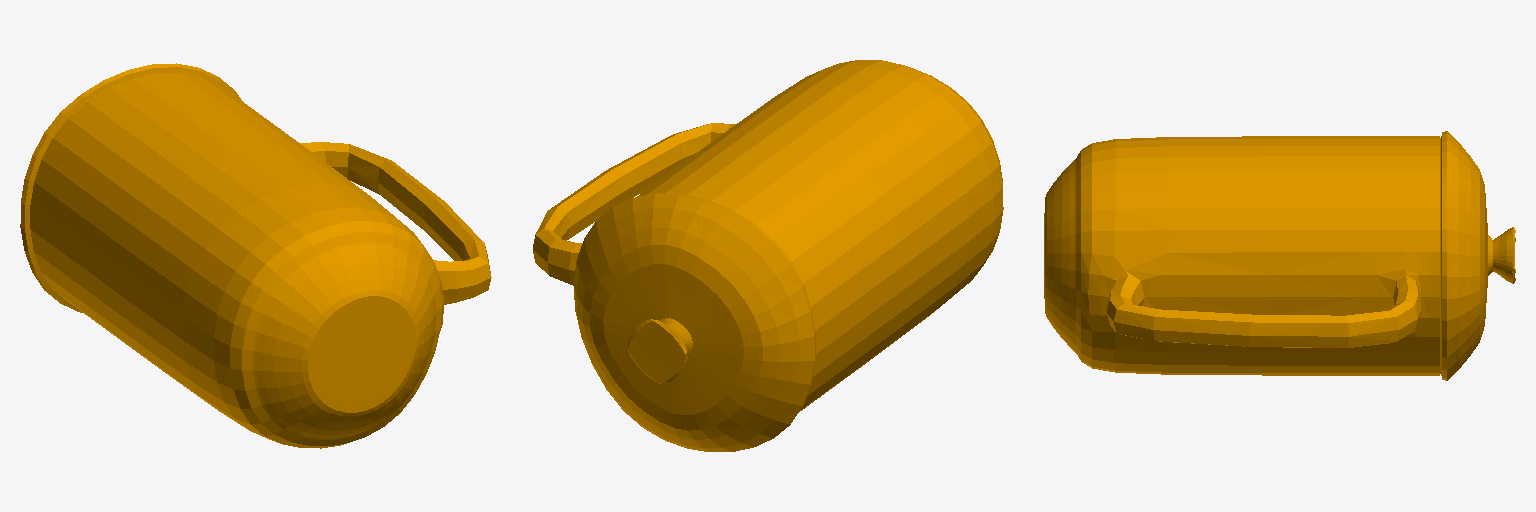
URDF robot description (168):
<?xml version="1.0" ?>
<robot name="168">
  <link name="body">
    <visual>
      <geometry>
        <mesh filename="../shapes/168.obj"/>
      </geometry>
    </visual>
    <collision>
      <geometry>
        <mesh filename="../shapes/168.obj"/>
      </geometry>
    </collision>
  </link>
</robot>

--- Facts derived from the render (not from the file) ---
Views: 3 orthographic renders of the robot side by side, from view 1: azimuth 30°, elevation 25°; view 2: azimuth 150°, elevation 25°; view 3: azimuth 270°, elevation 25°.
Model 168 with 1 links and 0 joints (none), rooted at body, posed every joint at zero.
Links seen in each view (by area): view 1: body; view 2: body; view 3: body.
Link boxes in pixels (left/top/right/bottom): body: left=20, top=63, right=491, bottom=448; body: left=533, top=60, right=1003, bottom=451; body: left=1044, top=131, right=1515, bottom=380.
Bounding box of the posed robot: 3.43 × 4.88 × 2.55 m (x, y, z).
1 mesh visuals loaded from 1 distinct referenced files (1 OBJ).